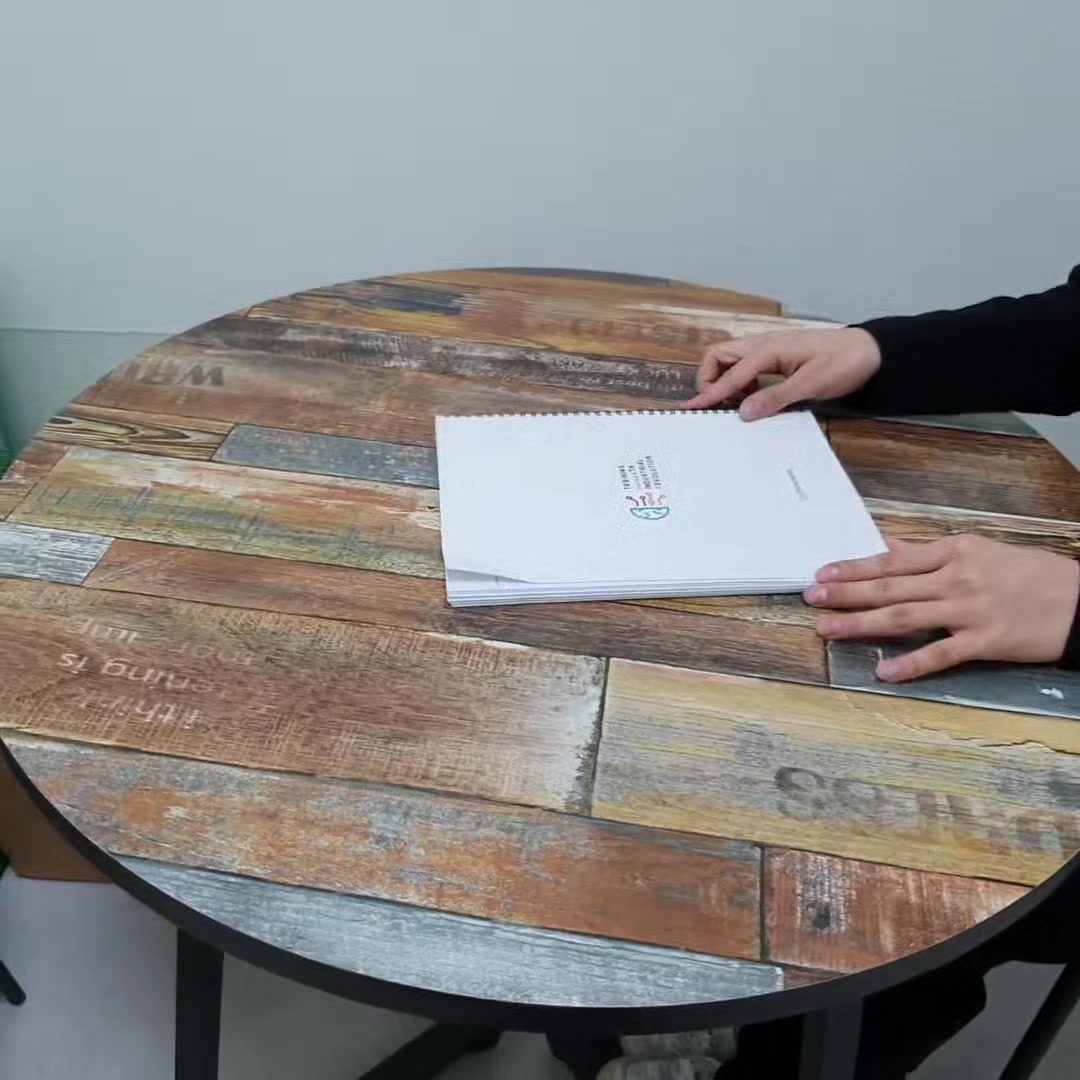book: (424, 401, 899, 602)
